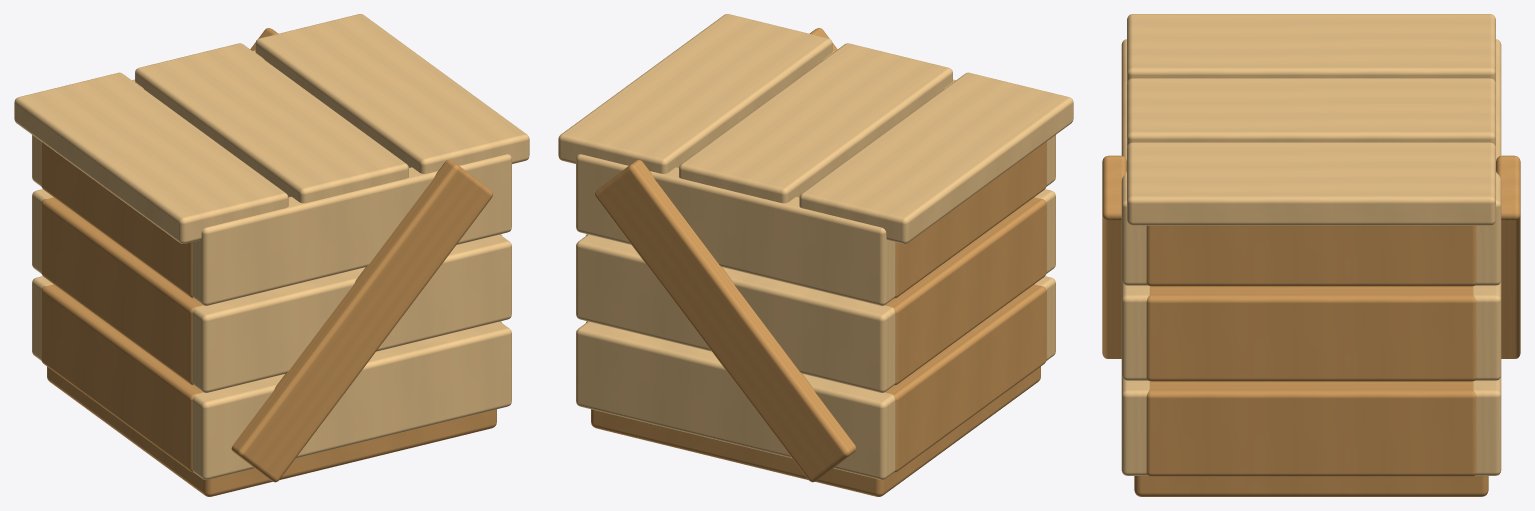
File: CRATE.glb
3 views of the same model, side by side, from view 1: azimuth 30°, elevation 25°; view 2: azimuth 150°, elevation 25°; view 3: azimuth 270°, elevation 25° (orthographic). The views are drawn at different scales.
Visible parts, largest first — view 1: CRATE; view 2: CRATE; view 3: CRATE.
Part boxes in pixels (x1,y1,x2,y2): CRATE: (14, 14, 529, 496); CRATE: (558, 14, 1073, 496); CRATE: (1102, 14, 1520, 496).
Size of the model in its own units: 0.61 by 0.482 by 0.578.
Materials: 2 (2 with a texture image).
